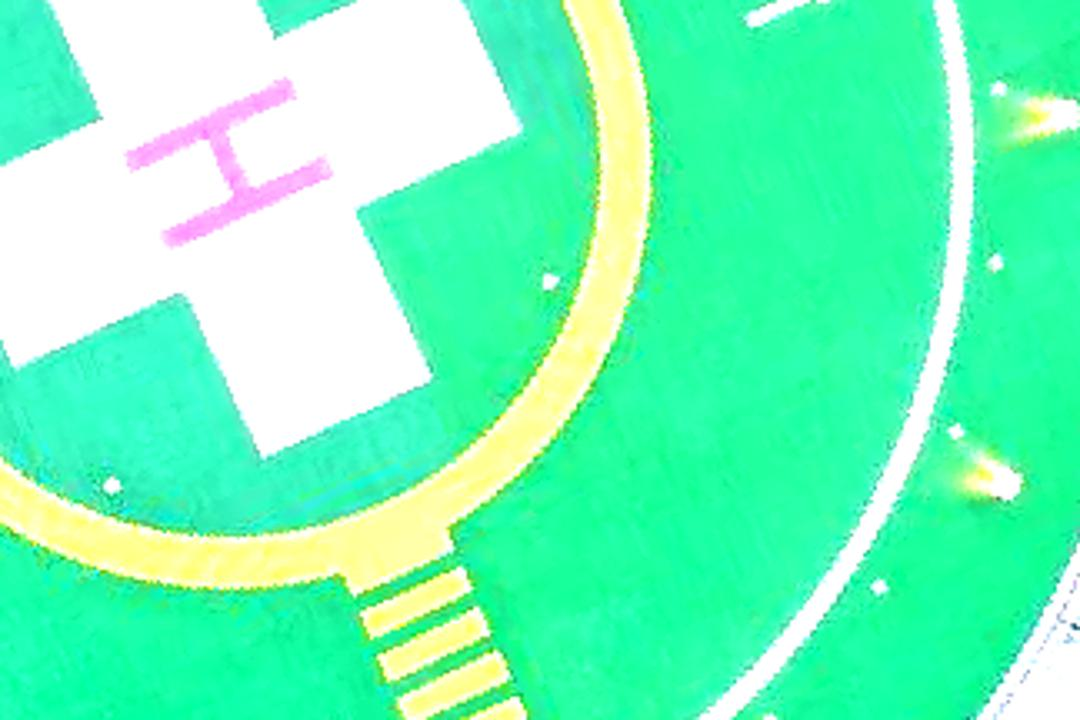Apron: (1, 1, 685, 610)
